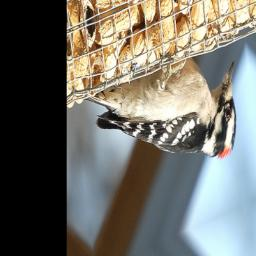Woodpecker: (86, 26, 244, 213)
